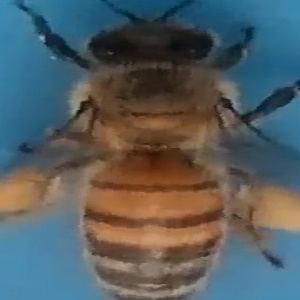bee: (3, 3, 297, 299)
